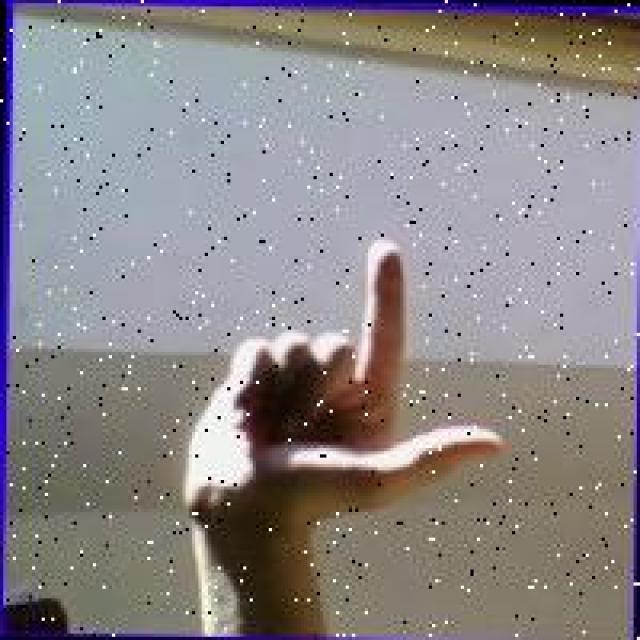L: (176, 227, 509, 560)
